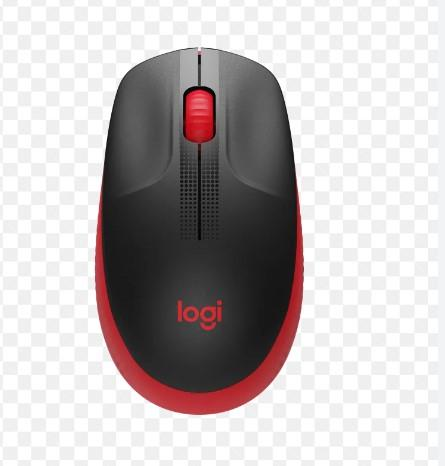computer mouse: (94, 48, 304, 418)
